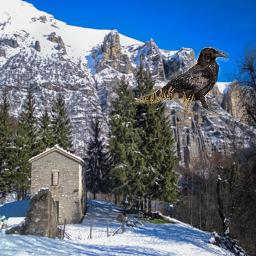Crow: (136, 47, 229, 117)
